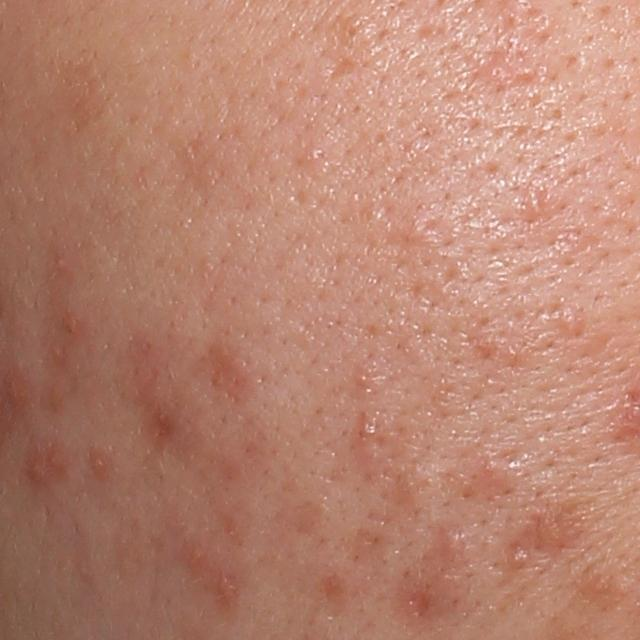atrophic_scar: (193, 339, 254, 421), (314, 40, 355, 84)
comedo: (298, 143, 326, 169)
papule: (530, 506, 574, 555), (433, 526, 464, 559), (216, 572, 240, 602), (62, 311, 83, 342), (25, 458, 48, 484), (91, 452, 111, 478)
